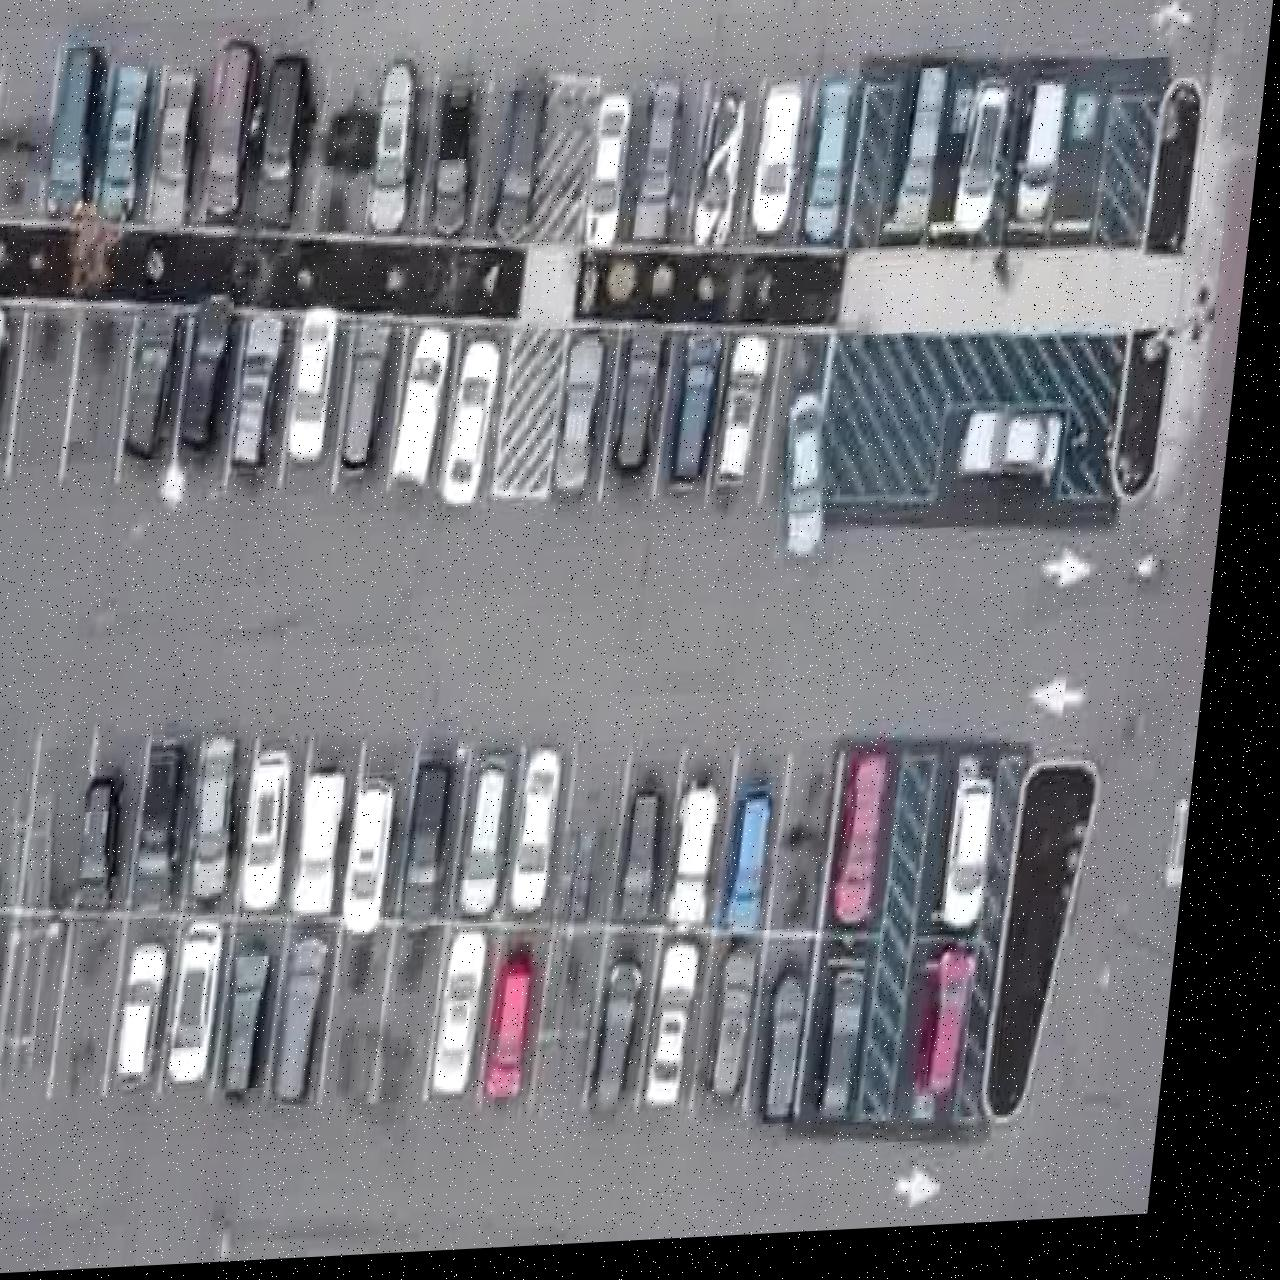car: (46, 41, 113, 217), (934, 955, 1000, 1133), (887, 76, 952, 254), (1150, 87, 1211, 265), (205, 39, 264, 224), (369, 60, 428, 239), (787, 399, 849, 567), (400, 328, 461, 496), (808, 82, 865, 256), (852, 760, 908, 934), (967, 414, 1077, 503), (258, 745, 315, 914), (454, 341, 511, 510), (204, 734, 260, 904), (295, 939, 352, 1108), (754, 84, 812, 246), (258, 55, 312, 231), (958, 87, 1016, 246), (456, 934, 511, 1102), (669, 948, 723, 1117), (97, 62, 154, 224), (190, 924, 245, 1087), (527, 754, 581, 920), (312, 763, 368, 921), (563, 339, 617, 503), (362, 777, 416, 940), (697, 93, 751, 254), (1126, 343, 1180, 504), (727, 341, 781, 499), (478, 761, 531, 922), (639, 87, 690, 251), (679, 336, 733, 492), (686, 783, 741, 935), (189, 294, 241, 452), (508, 949, 560, 1108), (348, 318, 401, 476), (495, 87, 547, 245), (962, 783, 1015, 940), (297, 308, 348, 468), (241, 314, 292, 477), (151, 66, 202, 229), (730, 954, 783, 1109), (135, 312, 190, 459), (434, 82, 484, 243), (138, 942, 192, 1092), (618, 961, 668, 1119), (423, 767, 471, 932), (245, 944, 294, 1104), (1019, 88, 1073, 234), (155, 736, 209, 880), (1057, 100, 1111, 244), (590, 97, 638, 256), (744, 795, 795, 941), (787, 976, 833, 1131), (91, 771, 143, 911), (624, 340, 673, 481), (844, 980, 890, 1126), (639, 796, 682, 924), (0, 919, 21, 1102), (0, 304, 21, 459), (1019, 170, 1063, 232)
